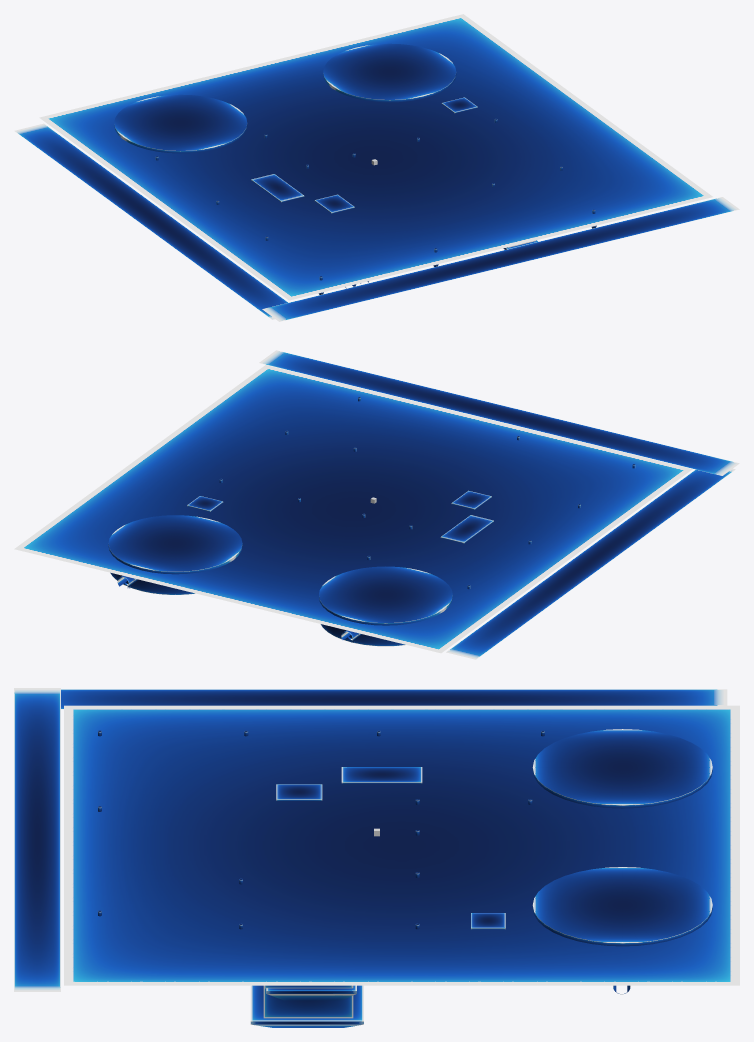
The picture shows the model from 3 angles, top to bottom: view 1: azimuth 30°, elevation 25°; view 2: azimuth 150°, elevation 25°; view 3: azimuth 270°, elevation 25°; orthographic projection. The views are drawn at different scales.
Visible parts, largest first — view 1: 阀门; view 2: 阀门; view 3: 阀门.
Boxes of the visible parts, x1=… form: 阀门: x1=14, y1=14, x2=739, y2=321; 阀门: x1=14, y1=350, x2=739, y2=659; 阀门: x1=14, y1=688, x2=739, y2=1027.
Size of the model in its own units: 248 by 41.94 by 250.
2 materials, 1 textured.
